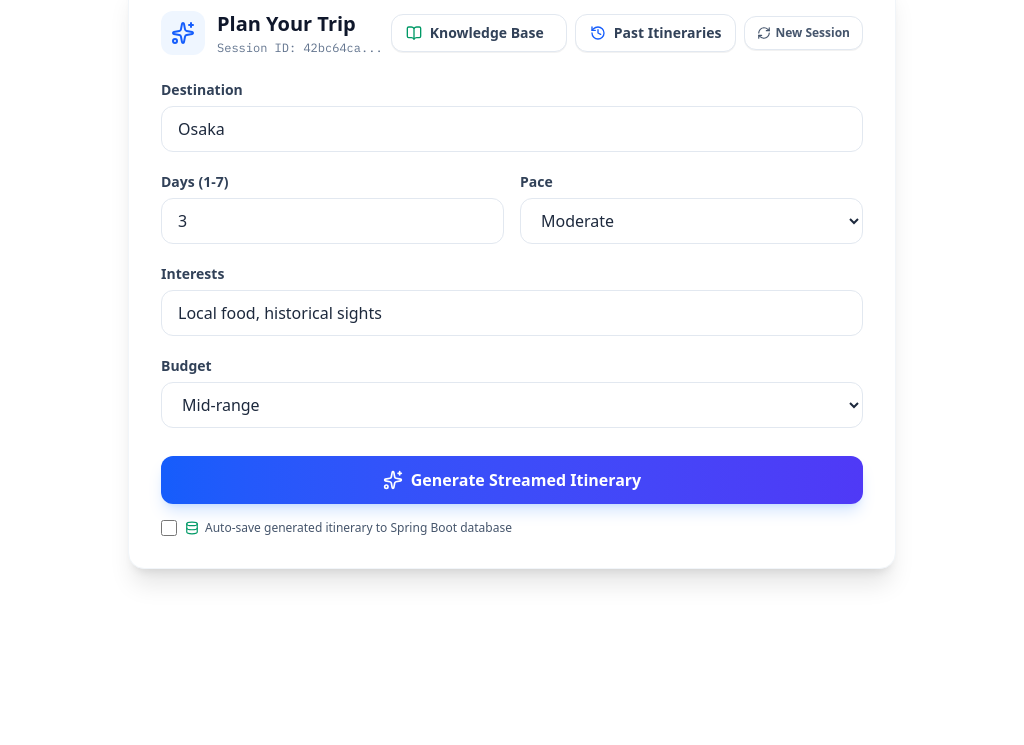
Test: ItineraryForm Component › Auto-save & Manual DB Save Handlers › automatically saves itinerary to database post-stream when auto-save checkbox is checked
Click the checkbox labelled "Auto-save generated itinerary to Spring Boot database" at (169, 528), box x1=161 y1=520 x2=177 y2=536
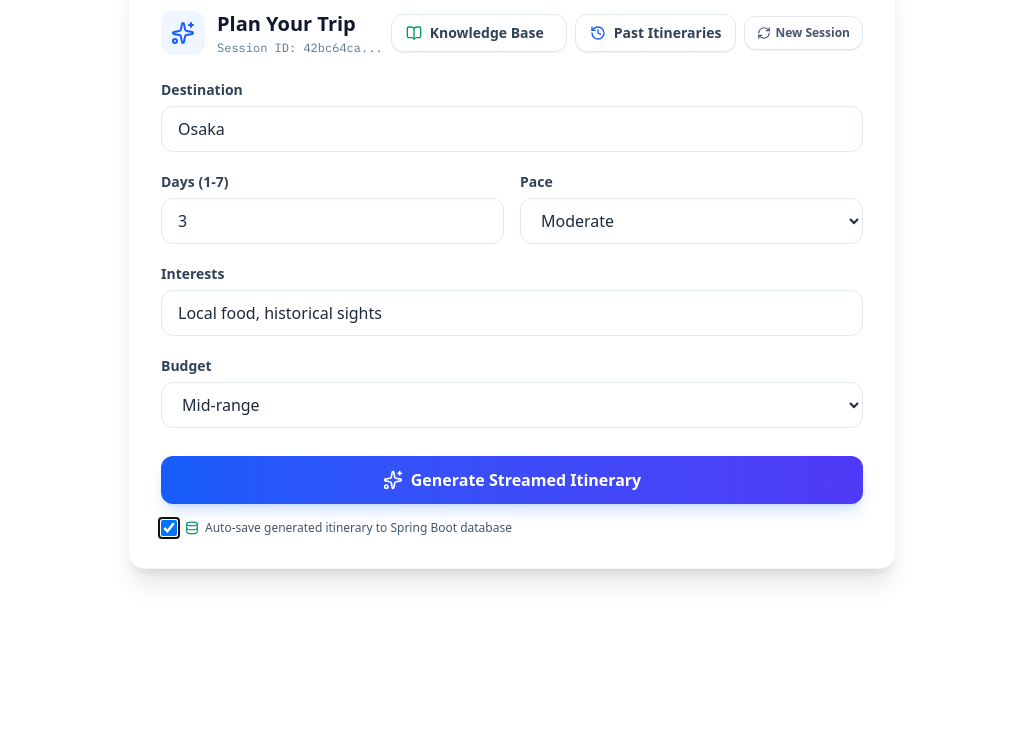
Click the button "Generate Streamed Itinerary" at (512, 480), box x1=161 y1=456 x2=863 y2=504
(page scrolled)
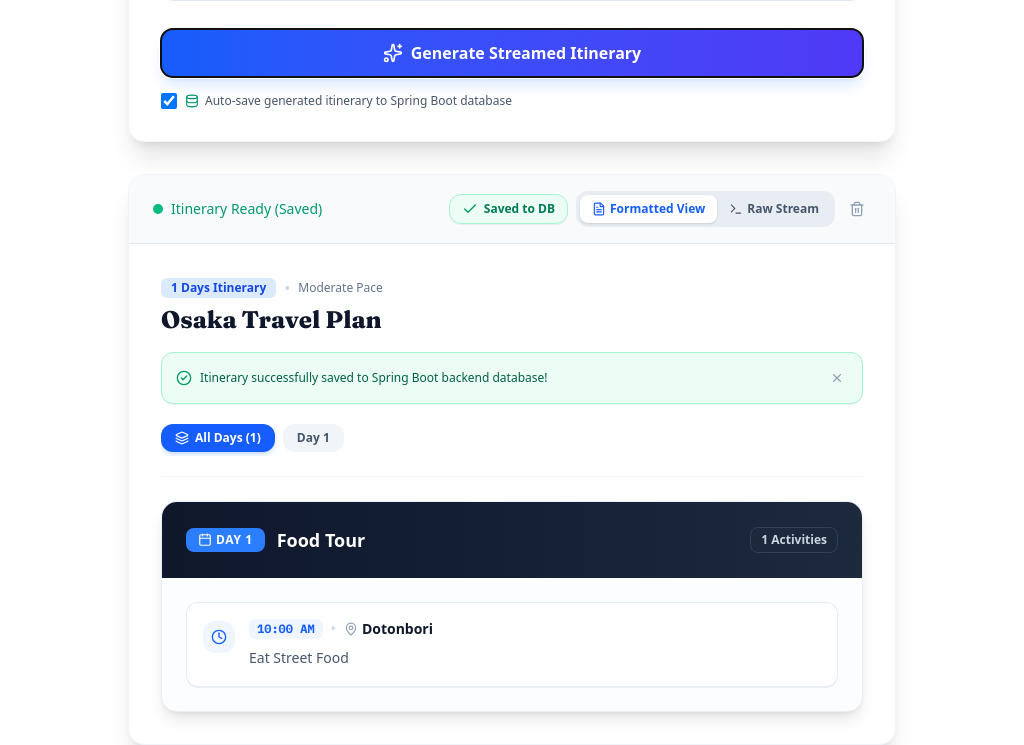
expect the text "Itinerary successfully saved to Spring Boot backend database!" is shown: met, box x1=200 y1=370 x2=548 y2=386
